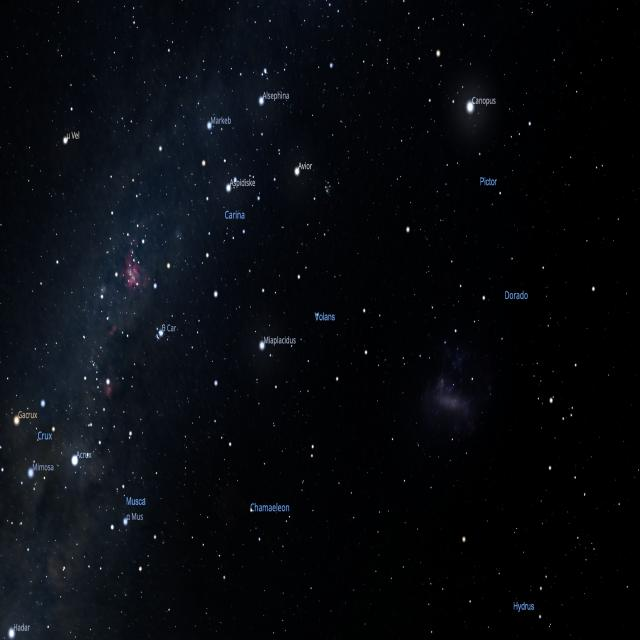Volans: (258, 270, 377, 392)
